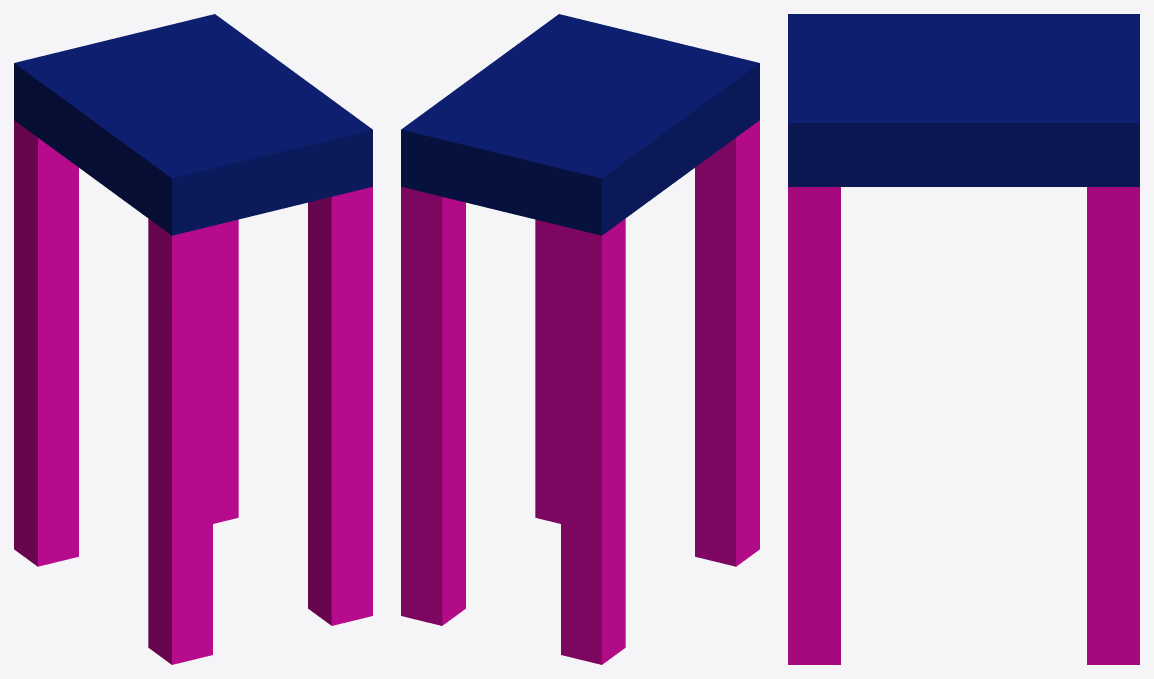
File: SM_TabouretHaut.fbx
3 views of the same model, side by side, from view 1: azimuth 30°, elevation 25°; view 2: azimuth 150°, elevation 25°; view 3: azimuth 270°, elevation 25° (orthographic). The views are drawn at different scales.
Parts seen in each view (by area): view 1: TabouretHaut; view 2: TabouretHaut; view 3: TabouretHaut.
Boxes of the visible parts, box(x1,y1,x2,y2) form: TabouretHaut: box(14, 14, 372, 664); TabouretHaut: box(401, 14, 759, 664); TabouretHaut: box(788, 14, 1139, 664).
Size of the model in its own units: 36.72 by 85 by 50.
